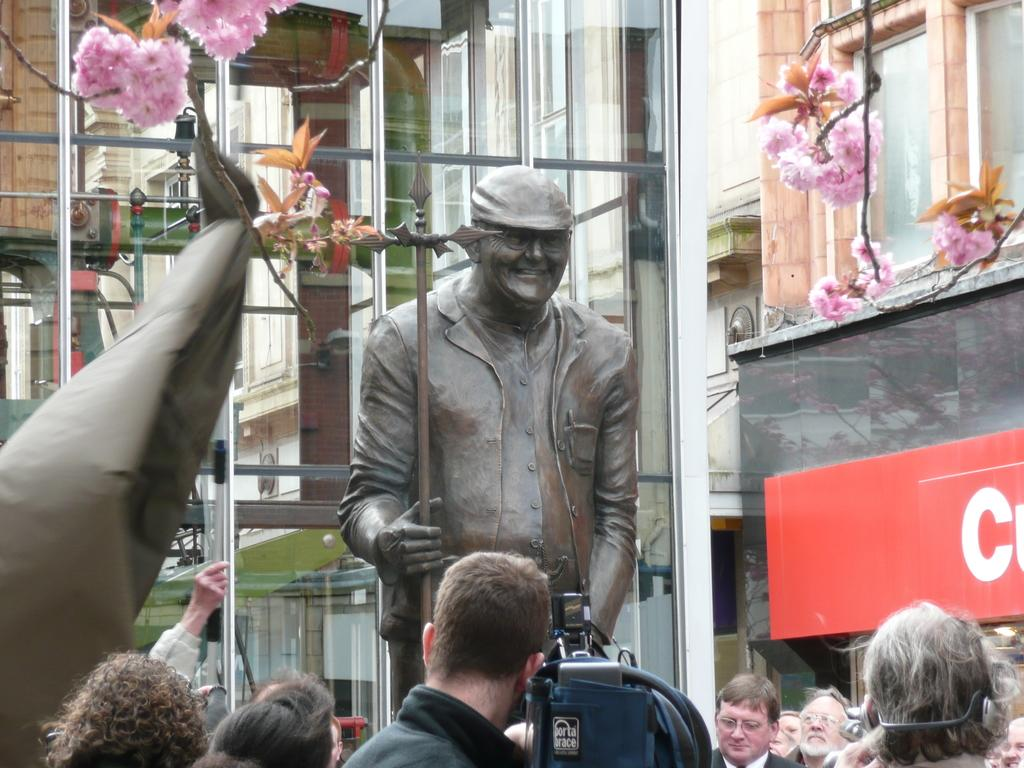Hat: (467, 163, 573, 228)
